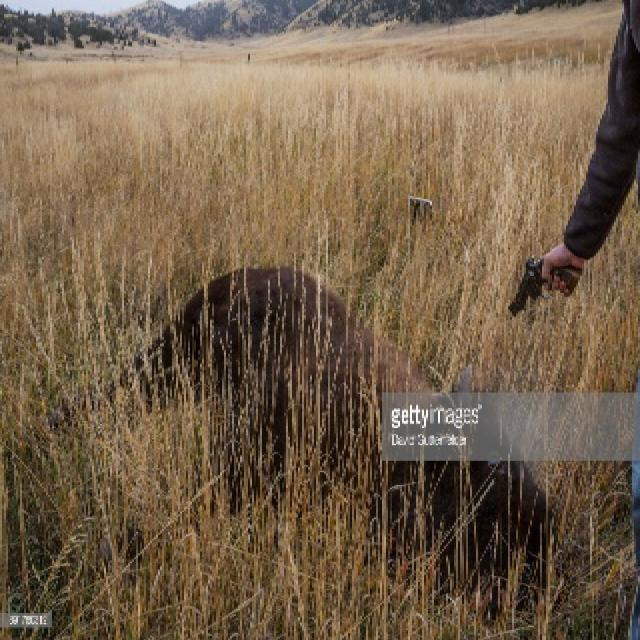handgun: (505, 248, 583, 321)
